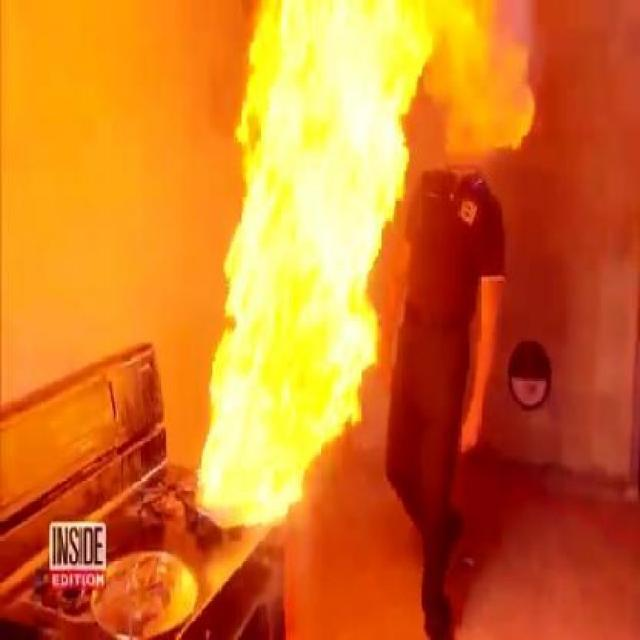fire: (196, 33, 390, 516)
